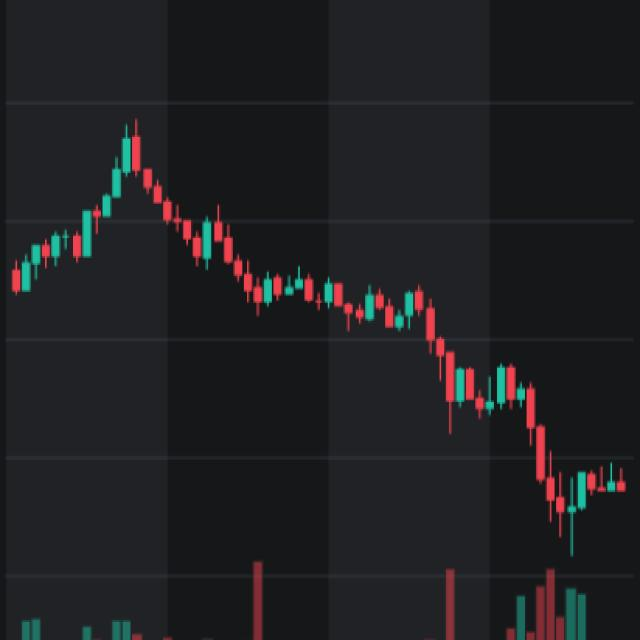Support-breakout: (6, 128, 567, 523)
